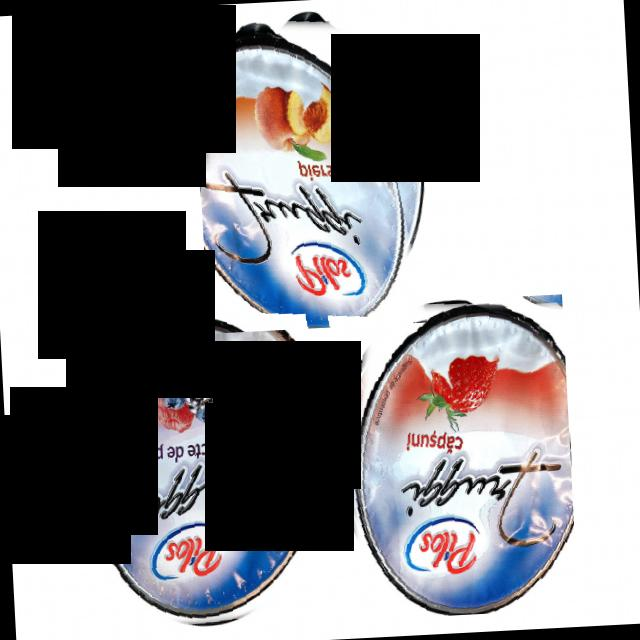yogurt: (76, 306, 326, 638), (331, 294, 578, 621), (192, 4, 430, 334)
